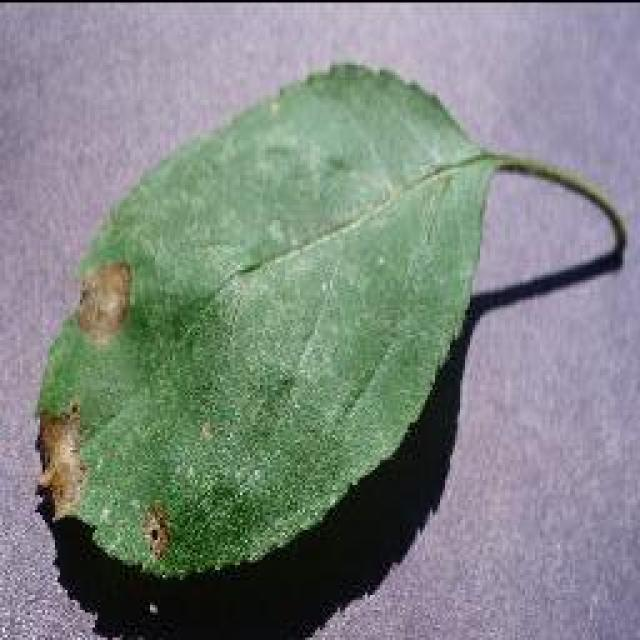Black_rot: (33, 58, 625, 582)
